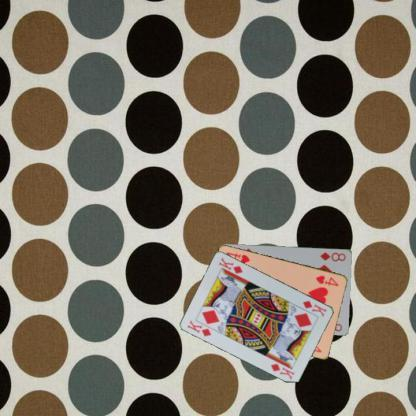4h: (313, 273, 340, 287)
8d: (318, 250, 348, 262)
Kd: (300, 298, 328, 318), (185, 318, 213, 338)
